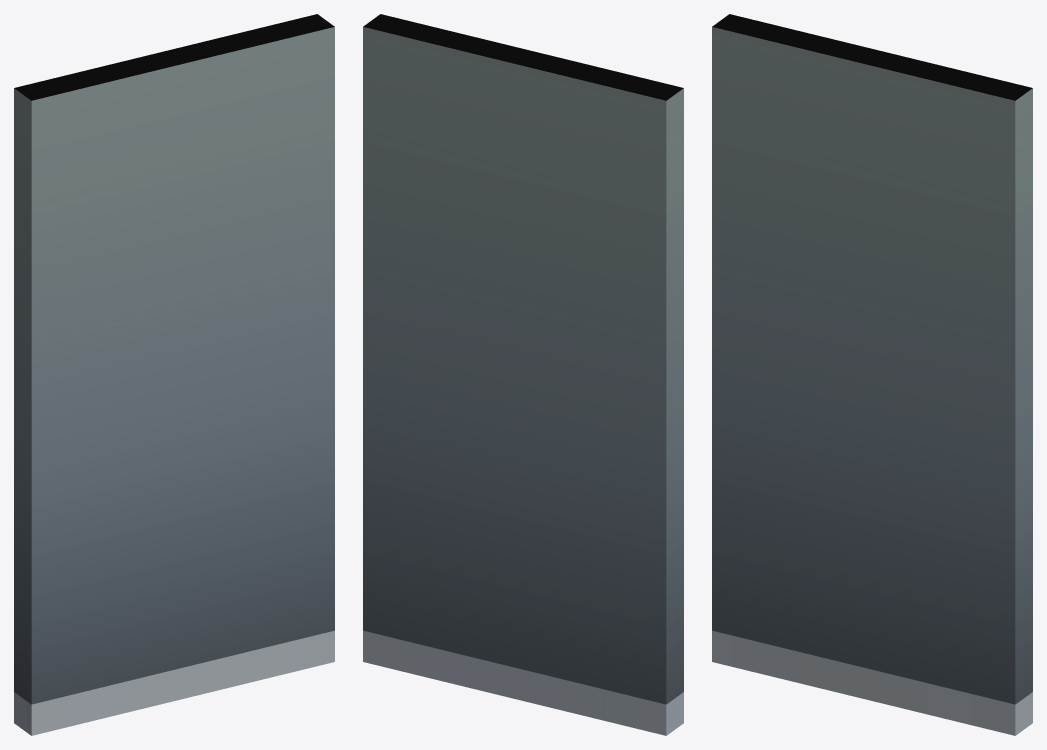
Rendered from wall.fbx.
3 views of the same model, side by side, from view 1: azimuth 30°, elevation 25°; view 2: azimuth 150°, elevation 25°; view 3: azimuth 330°, elevation 25° (orthographic).
Visible parts, largest first — view 1: SM_Wall_2x4; view 2: SM_Wall_2x4; view 3: SM_Wall_2x4.
Part boxes in pixels (box(x1,y1,x2,y2)): SM_Wall_2x4: box(14, 14, 334, 735); SM_Wall_2x4: box(363, 14, 683, 735); SM_Wall_2x4: box(712, 14, 1032, 735).
Size of the model in its own units: 200 by 400 by 20.
